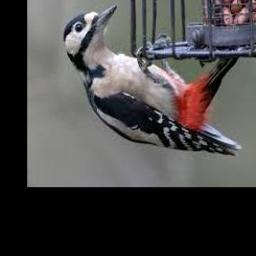Woodpecker: (63, 5, 241, 156)
